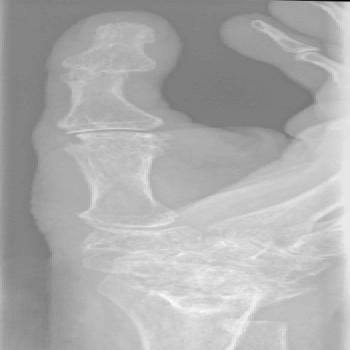Fracture: (104, 59, 164, 84)
